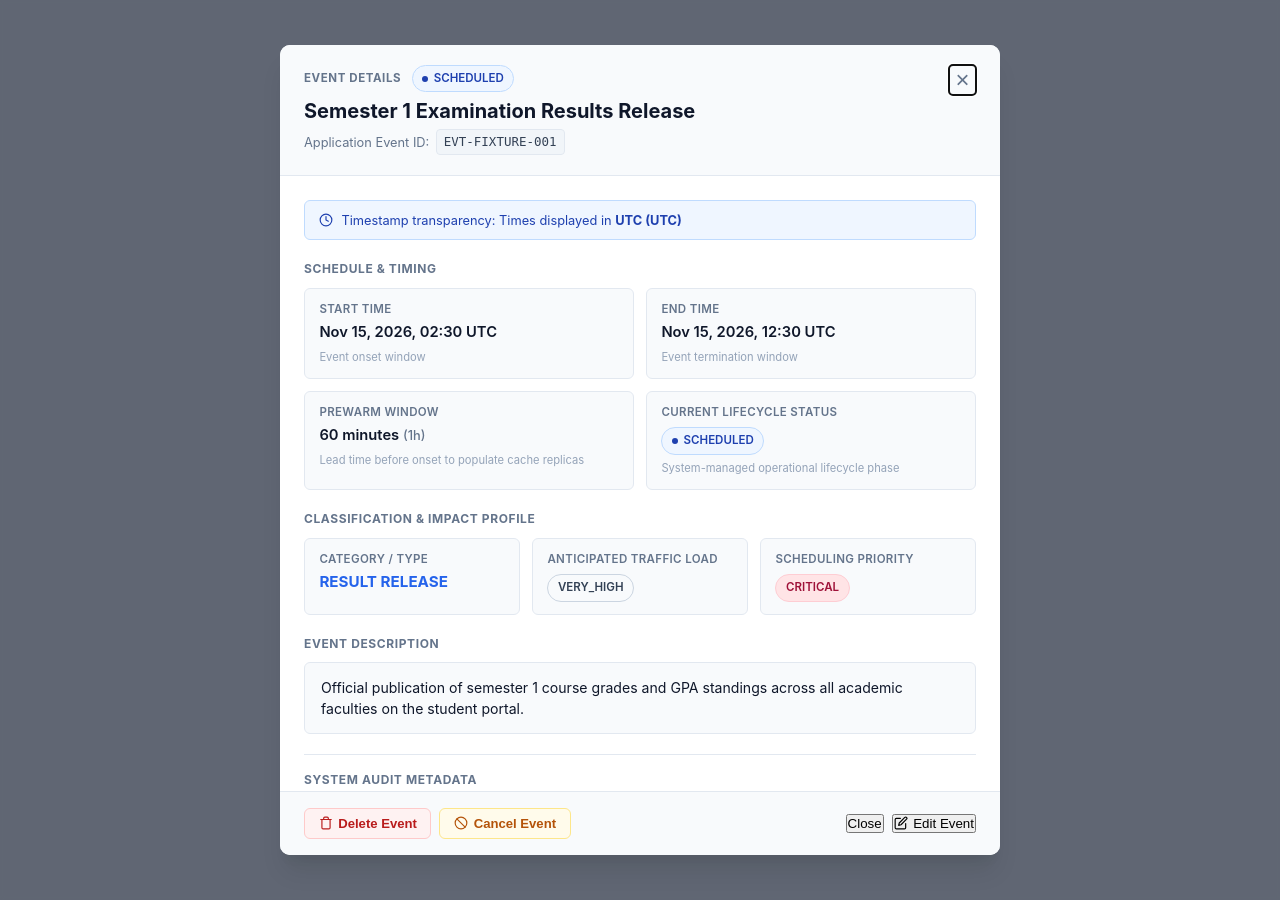
Part 3.4 — Event Details and Lifecycle Actions › 3. Event Deletion Action › prompts with confirmation warning of permanent irreversible deletion
Check: the heading "Semester 1 Examination Results Release" is shown, box [304,98,695,124]
Note: Click Delete
Step 1. Click the button "Delete Event" → (368, 823), box [304,808,432,839]
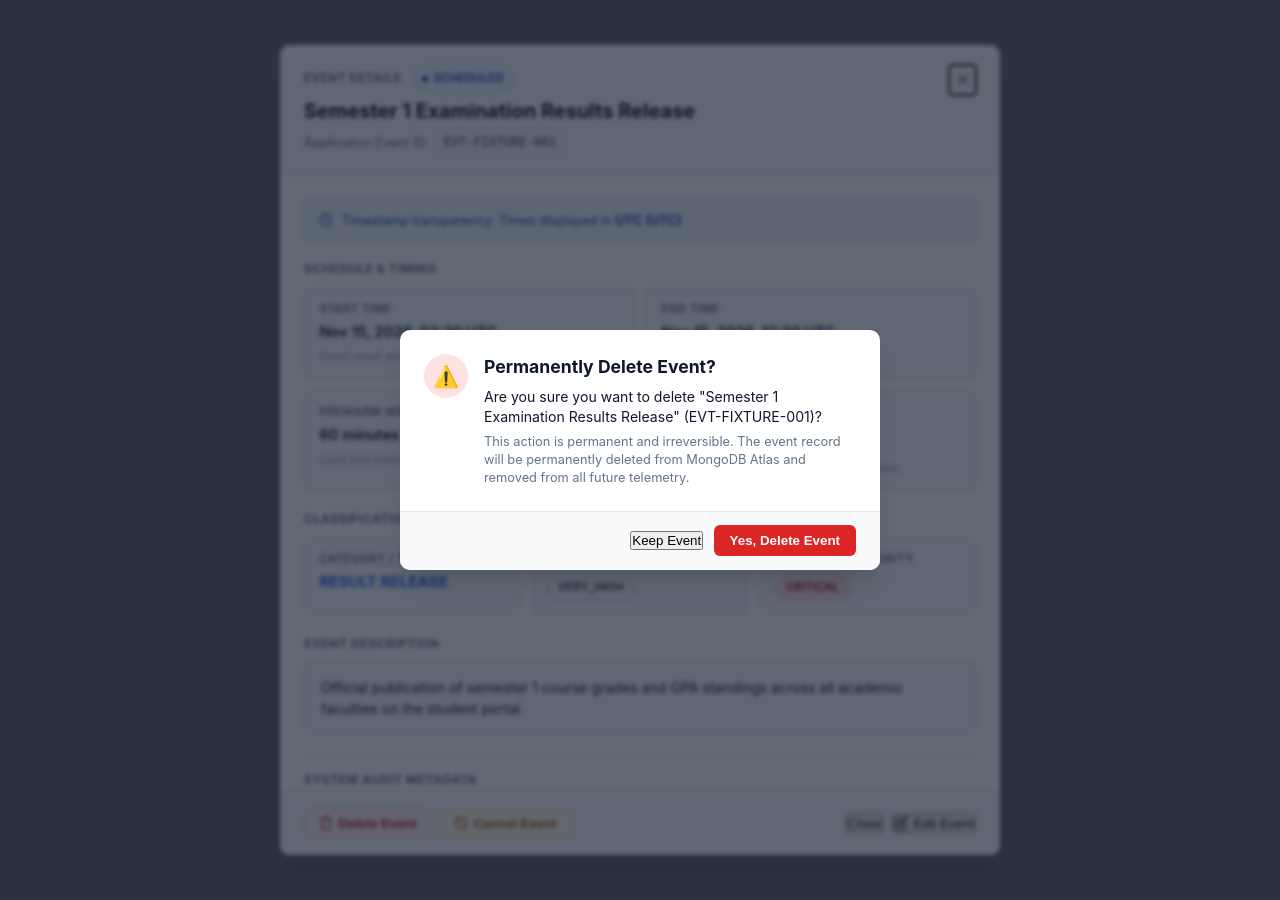
Check: the heading "Permanently Delete Event?" is shown, box [484,356,716,377]
Check: the text "action is permanent and irreversible" is shown, box [484,434,841,485]
Note: Dismiss dialog
Step 2. Click the button "Keep Event" → (667, 541), box [630,531,703,550]
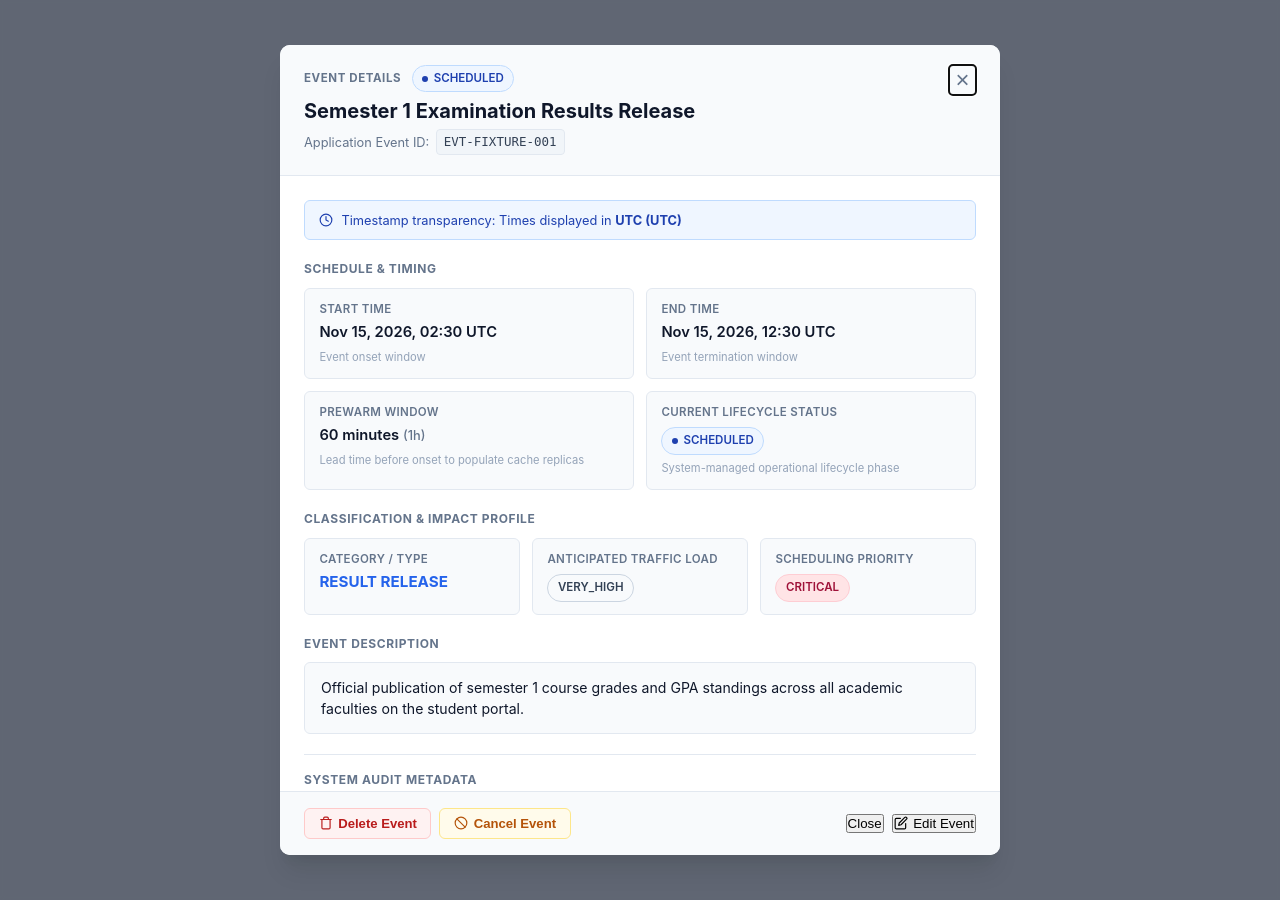
Check: the heading "Permanently Delete Event?" is gone
